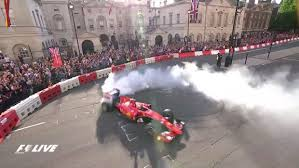FormulaOneCar: (96, 85, 189, 146)
